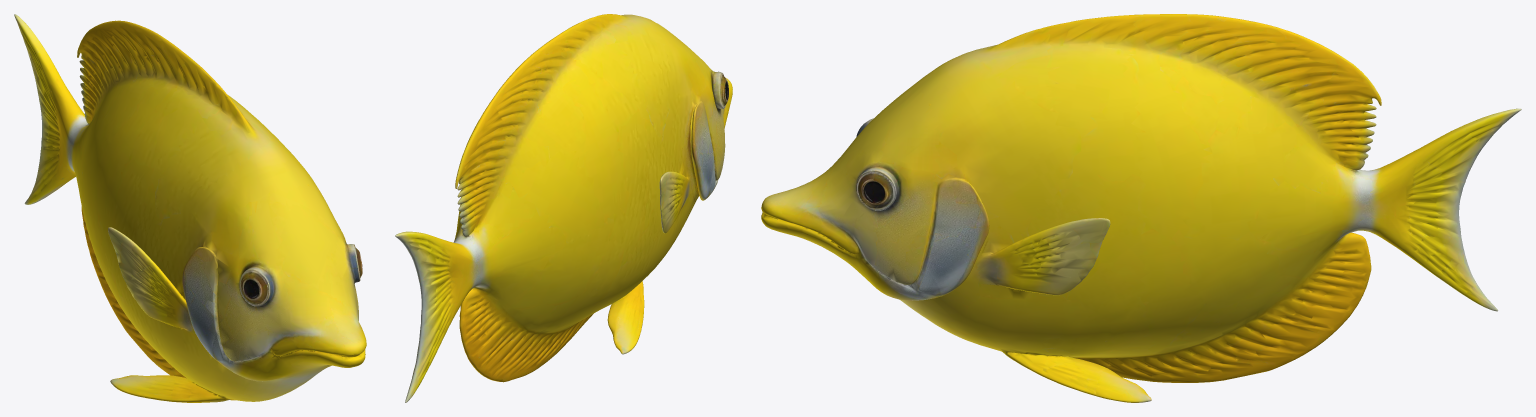
File: YellowTang.glb
The picture shows the model from 3 angles, left to right: view 1: azimuth 30°, elevation 25°; view 2: azimuth 150°, elevation 25°; view 3: azimuth 270°, elevation 25°; orthographic projection. The views are drawn at different scales.
Size of the model in its own units: 0.5931 by 1.02 by 1.91.
1 material, 1 textured.
